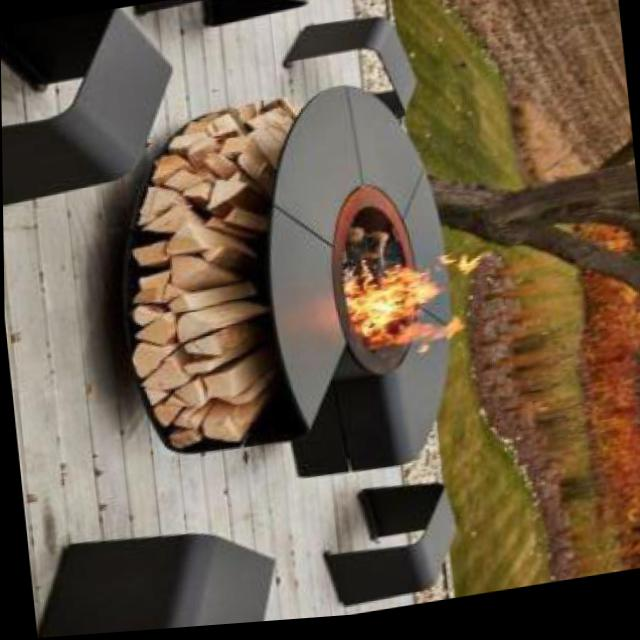Fire: (344, 246, 490, 370)
